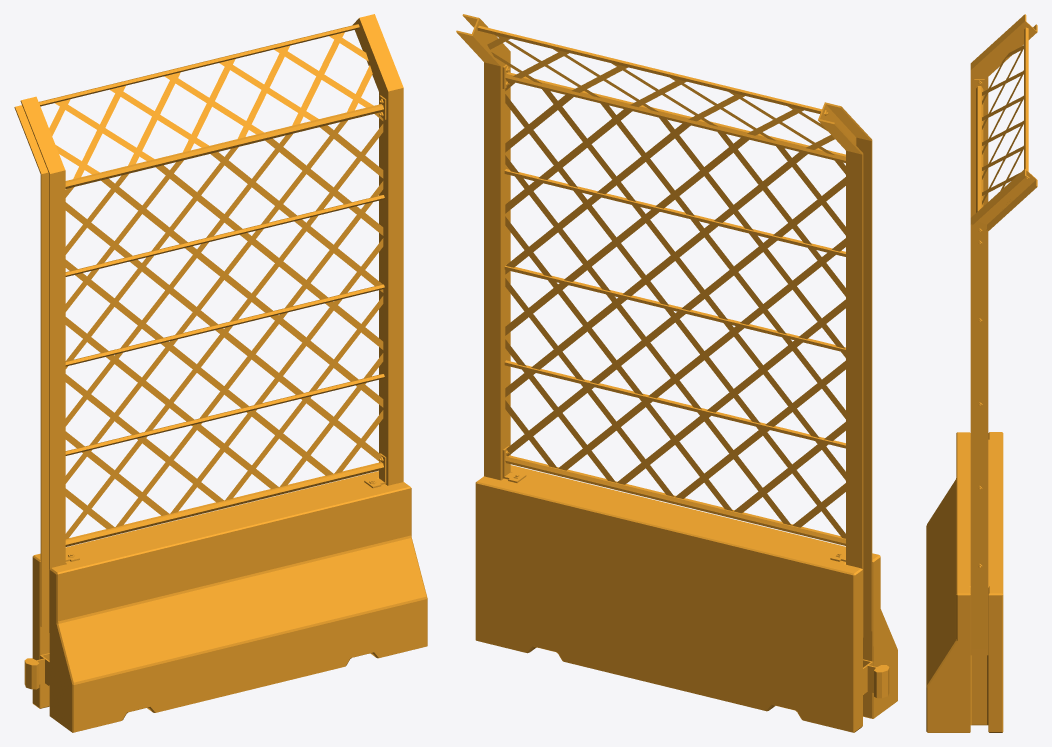
The model's file is SM_Fence_Road_Debrisguard_Net.fbx.
3 views of the same model, side by side, from view 1: azimuth 30°, elevation 25°; view 2: azimuth 150°, elevation 25°; view 3: azimuth 270°, elevation 25° (orthographic). The views are drawn at different scales.
Visible parts, largest first — view 1: SM_Fence_Road_Debrisguard_Net; view 2: SM_Fence_Road_Debrisguard_Net; view 3: SM_Fence_Road_Debrisguard_Net.
Part boxes in pixels (x1,y1,x2,y2): SM_Fence_Road_Debrisguard_Net: [14, 14, 427, 732]; SM_Fence_Road_Debrisguard_Net: [456, 14, 897, 732]; SM_Fence_Road_Debrisguard_Net: [926, 14, 1037, 732].
Size of the model in its own units: 2.63 by 4 by 0.7223.
